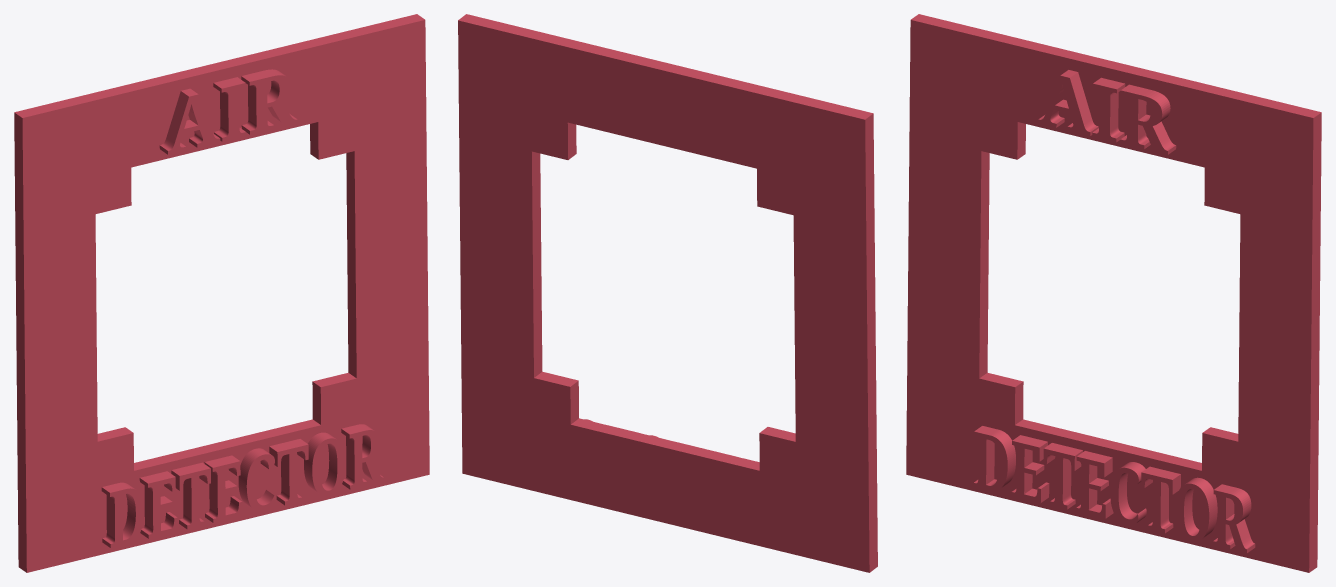
The model's file is tinker.glb.
The picture shows the model from 3 angles, left to right: view 1: azimuth 30°, elevation 25°; view 2: azimuth 150°, elevation 25°; view 3: azimuth 330°, elevation 25°; orthographic projection.
Visible parts, largest first — view 1: Mesh_Mesh_head_geo.001_lambert2SG.001; view 2: Mesh_Mesh_head_geo.001_lambert2SG.001; view 3: Mesh_Mesh_head_geo.001_lambert2SG.001.
Part boxes in pixels (left/top/right/bottom): Mesh_Mesh_head_geo.001_lambert2SG.001: left=14, top=14, right=429, bottom=572; Mesh_Mesh_head_geo.001_lambert2SG.001: left=458, top=14, right=877, bottom=572; Mesh_Mesh_head_geo.001_lambert2SG.001: left=906, top=14, right=1321, bottom=572.
Size of the model in its own units: 0.112 by 0.1201 by 0.01.
